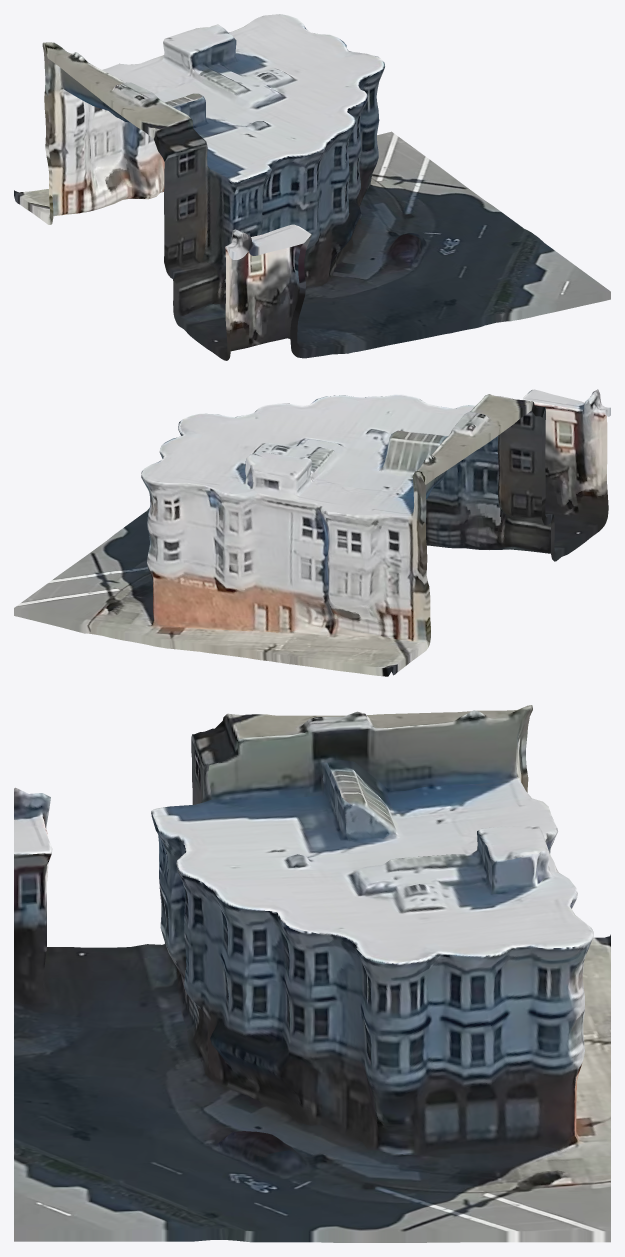
File: z20-167735-405197-h0-yup-uvflip-v3-world.glb
3 renders of one model, top to bottom at view 1: azimuth 30°, elevation 25°; view 2: azimuth 150°, elevation 25°; view 3: azimuth 270°, elevation 25°, orthographic. The views are drawn at different scales.
Size of the model in its own units: 30.16 by 16.28 by 30.32.
Materials: 1 (1 with a texture image).
